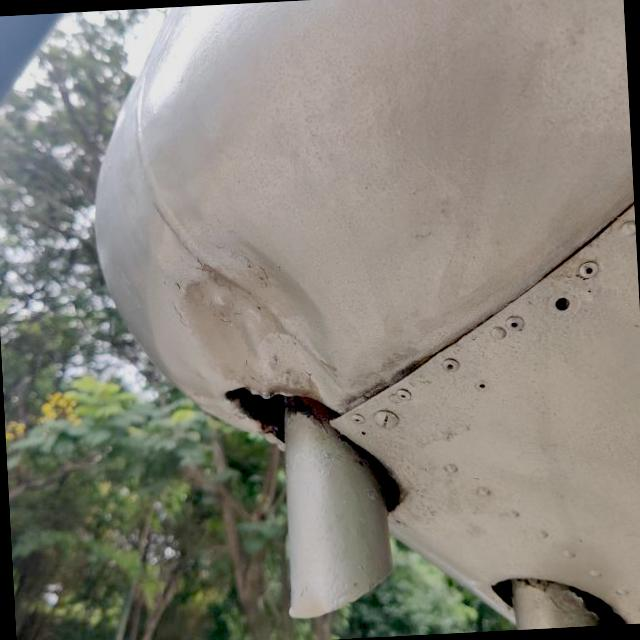Missing Fastener: (542, 286, 584, 322)
dent: (173, 237, 334, 390)
